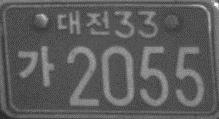0: (100, 44, 134, 107)
2: (64, 43, 100, 106)
3: (113, 10, 136, 39), (136, 10, 159, 39)
5: (174, 44, 205, 108), (138, 44, 168, 106)
가: (17, 44, 55, 87)
대전_O: (55, 9, 110, 37)
